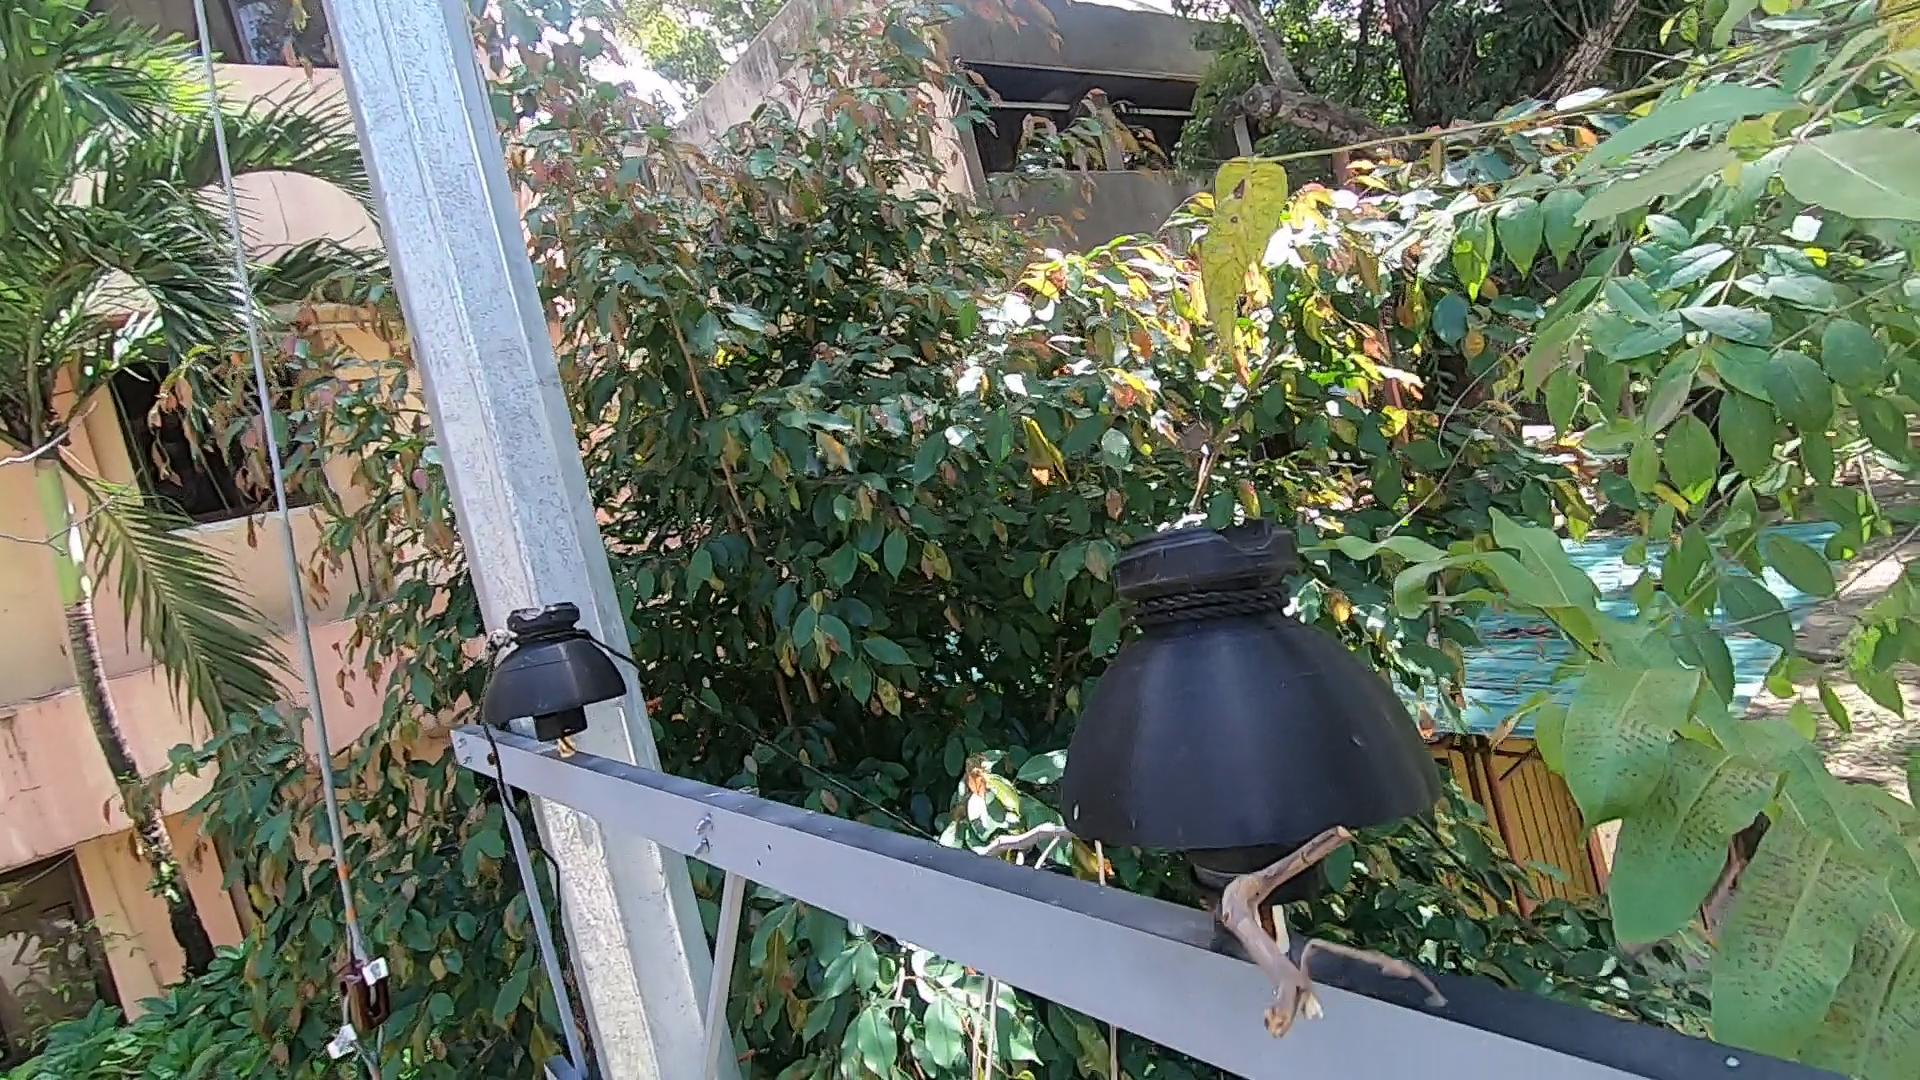tree branch: (1182, 819, 1462, 1052), (895, 814, 1083, 866)
